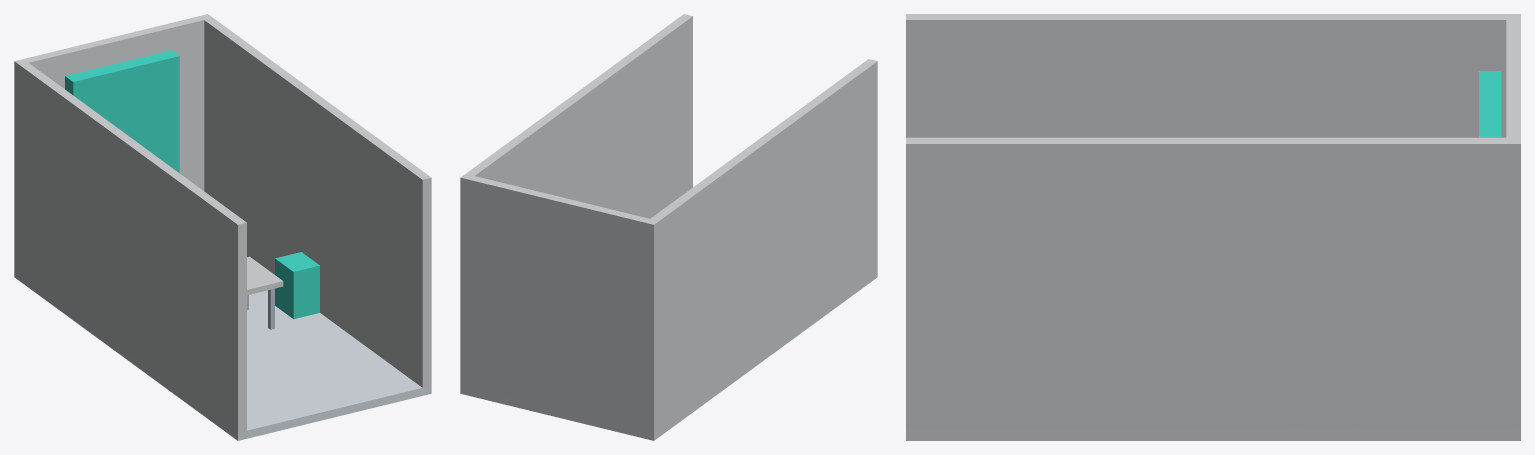
The picture shows the model from 3 angles, left to right: view 1: azimuth 30°, elevation 25°; view 2: azimuth 150°, elevation 25°; view 3: azimuth 270°, elevation 25°; orthographic projection. The views are drawn at different scales.
Visible parts, largest first — view 1: Exhibition Booth Concept; view 2: Exhibition Booth Concept; view 3: Exhibition Booth Concept.
Boxes of the visible parts, x1,y1,x2,y2 form: Exhibition Booth Concept: (14,14,431,440); Exhibition Booth Concept: (460,14,877,440); Exhibition Booth Concept: (906,14,1520,440).
Size of the model in its own units: 3 by 3.2 by 6.
